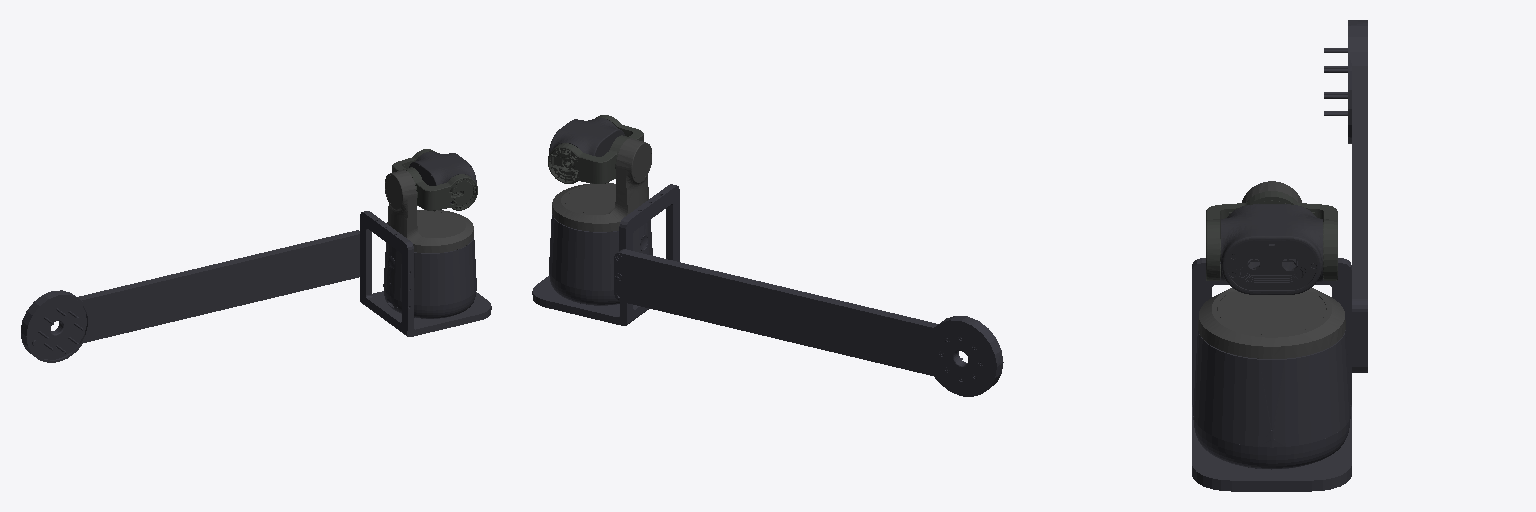
The robot description file, URDF, robot "eMeetArm_models":
<!-- This URDF was automatically created by SolidWorks to URDF Exporter! Originally created by Stephen Brawner (brawner@gmail.com) 
     Commit Version: 1.6.0-4-g7f85cfe  Build Version: 1.6.7995.38578
     For more information, please see http://wiki.ros.org/sw_urdf_exporter -->
<robot
  name="eMeetArm_models">
  <link name="world"/>
  <joint name="world_joint" type="fixed">
    <parent link="world"/>
    <child link="base_link"/>
    <origin xyz="0 0 0" rpy="0 0 0"/>
  </joint>

  <link
    name="base_link">
    <inertial>
      <origin
        xyz="-1.26513871156475E-05 -1.5742724565615E-05 0.0452777610383739"
        rpy="0 0 0" />
      <mass
        value="2.9887249749171" />
      <inertia
        ixx="0.0136862770640689"
        ixy="6.69045000229793E-07"
        ixz="-3.08621535501323E-07"
        iyy="0.0112779246258948"
        iyz="-2.26930660317598E-07"
        izz="0.0223184454586288" />
    </inertial>
    <visual>
      <origin
        xyz="0 0 0"
        rpy="0 0 0" />
      <geometry>
        <mesh
          filename="package://robot_arm_description/meshes/base_link.STL" />
      </geometry>
      <material
        name="">
        <color
          rgba="0.22 0.22 0.23 1" />
      </material>
    </visual>
    <collision>
      <origin
        xyz="0 0 0"
        rpy="0 0 0" />
      <geometry>
        <mesh
          filename="package://robot_arm_description/meshes/base_link.STL" />
      </geometry>
    </collision>
  </link>
  <link
    name="Link1">
    <inertial>
      <origin
        xyz="-7.4393277062379E-05 -0.00743203317797858 0.128765008589431"
        rpy="0 0 0" />
      <mass
        value="2.35824980558236" />
      <inertia
        ixx="0.00383791573125331"
        ixy="7.01396501492847E-07"
        ixz="-3.09202743571665E-06"
        iyy="0.00465819508220185"
        iyz="-0.000530039602599771"
        izz="0.00221408091488039" />
    </inertial>
    <visual>
      <origin
        xyz="0 0 0"
        rpy="0 0 0" />
      <geometry>
        <mesh
          filename="package://robot_arm_description/meshes/Link1.STL" />
      </geometry>
      <material
        name="">
        <color
          rgba="0.25 0.25 0.25 1" />
      </material>
    </visual>
    <collision>
      <origin
        xyz="0 0 0"
        rpy="0 0 0" />
      <geometry>
        <mesh
          filename="package://robot_arm_description/meshes/Link1.STL" />
      </geometry>
    </collision>
  </link>
  <joint
    name="Joint1"
    type="revolute">
    <origin
      xyz="0 0 0.1078"
      rpy="0 0 0" />
    <parent
      link="base_link" />
    <child
      link="Link1" />
    <axis
      xyz="0 0 1" />
    <limit
      lower="-2.618"
      upper="2.618"
      effort="5"
      velocity="3.14" />
    <dynamics damping="1.0" friction="0.0"/>
  </joint>
  <link
    name="Link2">
    <inertial>
      <origin
        xyz="0.262334166073163 -2.30075418332643E-05 0.0292792731278192"
        rpy="0 0 0" />
      <mass
        value="1.23593589919935" />
      <inertia
        ixx="0.000521066265507803"
        ixy="1.66498206532369E-07"
        ixz="1.28943373675324E-05"
        iyy="0.00836492400345204"
        iyz="-2.82843566382884E-07"
        izz="0.00851304966664655" />
    </inertial>
    <visual>
      <origin
        xyz="0 0 0"
        rpy="0 0 0" />
      <geometry>
        <mesh
          filename="package://robot_arm_description/meshes/Link2.STL" />
      </geometry>
      <material
        name="">
        <color
          rgba="0.28 0.27 0.27 1" />
      </material>
    </visual>
    <collision>
      <origin
        xyz="0 0 0"
        rpy="0 0 0" />
      <geometry>
        <mesh
          filename="package://robot_arm_description/meshes/Link2.STL" />
      </geometry>
    </collision>
  </link>
  <joint
    name="Joint2"
    type="revolute">
    <origin
      xyz="0 -0.0625 0.1502"
      rpy="1.5708 -0.48869 -3.1416" />
    <!-- 2026-07-28 实机重标定：新零点 = 旧 +0.181 rad（pitch -0.30769→-0.48869，限位 -0.181） -->
    <parent
      link="Link1" />
    <child
      link="Link2" />
    <axis
      xyz="0 0 1" />
    <limit
      lower="-0.981"
      upper="2.959"
      effort="30"
      velocity="3.14" />
    <dynamics damping="5.0" friction="0.0"/>
  </joint>
  <link
    name="Link3">
    <inertial>
      <origin
        xyz="0.250990565530514 0.00808545394179894 -0.0222401755365892"
        rpy="0 0 0" />
      <mass
        value="0.752556593812719" />
      <inertia
        ixx="0.000425309657305075"
        ixy="-5.61728607430966E-05"
        ixz="-1.50015547434599E-06"
        iyy="0.00322998845965891"
        iyz="-5.25098997553526E-07"
        izz="0.00319703542103549" />
    </inertial>
    <visual>
      <origin
        xyz="0 0 0"
        rpy="0 0 0" />
      <geometry>
        <mesh
          filename="package://robot_arm_description/meshes/Link3.STL" />
      </geometry>
      <material
        name="">
        <color
          rgba="0.26 0.26 0.29 1" />
      </material>
    </visual>
    <collision>
      <origin
        xyz="0 0 0"
        rpy="0 0 0" />
      <geometry>
        <mesh
          filename="package://robot_arm_description/meshes/Link3.STL" />
      </geometry>
    </collision>
  </link>
  <joint
    name="Joint3"
    type="revolute">
    <origin
      xyz="0.35 0 0.089"
      rpy="0 0 2.6579" />
    <!-- 2026-07-28 实机重标定：新零点 = 旧 -0.176 rad（yaw 2.8339→2.6579）；
         限位按新零点收紧为 [-2.5, 0]（物理行程 [-2.964, 0.226] 内的人为限制） -->
    <parent
      link="Link2" />
    <child
      link="Link3" />
    <axis
      xyz="0 0 1" />
    <limit
      lower="-2.5"
      upper="0.02"
      effort="5"
      velocity="3.14" />
    <dynamics damping="3.0" friction="0.0"/>
  </joint>
  <link
    name="Link4">
    <inertial>
      <origin
        xyz="-0.0101264888829805 -9.43656253071801E-06 0.0183147239415546"
        rpy="0 0 0" />
      <mass
        value="0.096843847451149" />
      <inertia
        ixx="3.90651033692534E-05"
        ixy="-7.03126515657744E-09"
        ixz="1.31677639794987E-05"
        iyy="4.72677970007942E-05"
        iyz="-4.24198916633624E-09"
        izz="5.03679132119555E-05" />
    </inertial>
    <visual>
      <origin
        xyz="0 0 0"
        rpy="0 0 0" />
      <geometry>
        <mesh
          filename="package://robot_arm_description/meshes/Link4.STL" />
      </geometry>
      <material
        name="">
        <color
          rgba="0.30 0.30 0.30 1" />
      </material>
    </visual>
    <collision>
      <origin
        xyz="0 0 0"
        rpy="0 0 0" />
      <geometry>
        <mesh
          filename="package://robot_arm_description/meshes/Link4.STL" />
      </geometry>
    </collision>
  </link>
  <joint
    name="Joint4"
    type="revolute">
    <origin
      xyz="0.339 -0.024975 -0.04"
      rpy="1.5708 0 0" />
    <parent
      link="Link3" />
    <child
      link="Link4" />
    <axis
      xyz="0 0 -1" />
    <limit
      lower="-3.1"
      upper="3.1"
      effort="1"
      velocity="1" />
    <dynamics damping="0.5" friction="0.0"/>
  </joint>
  <link
    name="Link5">
    <inertial>
      <origin
        xyz="0.0012638 0.00010623 0.021049"
        rpy="0 0 0" />
      <mass
        value="0.045324" />
      <inertia
        ixx="9.6597E-06"
        ixy="4.2023E-08"
        ixz="1.6641E-06"
        iyy="1.3078E-05"
        iyz="-8.5768E-08"
        izz="8.9202E-06" />
    </inertial>
    <visual>
      <origin
        xyz="0 0 0"
        rpy="0 0 0" />
      <geometry>
        <mesh
          filename="package://robot_arm_description/meshes/Link5.STL" />
      </geometry>
      <material
        name="">
        <color
          rgba="0.27 0.28 0.27 1" />
      </material>
    </visual>
    <collision>
      <origin
        xyz="0 0 0"
        rpy="0 0 0" />
      <geometry>
        <mesh
          filename="package://robot_arm_description/meshes/Link5.STL" />
      </geometry>
    </collision>
  </link>
  <joint
    name="Joint5"
    type="revolute">
    <origin
      xyz="-0.022739 0 0.048353"
      rpy="-1.5708 0 -1.5708" />
    <parent
      link="Link4" />
    <child
      link="Link5" />
    <axis
      xyz="0 0 1" />
    <limit
      lower="-0.7854"
      upper="0.7854"
      effort="1"
      velocity="1" />
    <dynamics damping="0.5" friction="0.0"/>
  </joint>
  <link
    name="Link6">
    <inertial>
      <origin
        xyz="-0.000391828204109268 -5.10898276429028E-05 8.72654266097506E-05"
        rpy="0 0 0" />
      <mass
        value="0.0550538676063611" />
      <inertia
        ixx="1.97473690747458E-05"
        ixy="2.97287907271867E-08"
        ixz="-3.3993136804071E-08"
        iyy="1.6757375365036E-05"
        iyz="-1.34242857049597E-07"
        izz="1.07644206564509E-05" />
    </inertial>
    <visual>
      <origin
        xyz="0 0 0"
        rpy="0 0 0" />
      <geometry>
        <mesh
          filename="package://robot_arm_description/meshes/Link6.STL" />
      </geometry>
      <material
        name="">
        <color
          rgba="0.24 0.24 0.26 1" />
      </material>
    </visual>
    <collision>
      <origin
        xyz="0 0 0"
        rpy="0 0 0" />
      <geometry>
        <mesh
          filename="package://robot_arm_description/meshes/Link6.STL" />
      </geometry>
    </collision>
  </link>
  <joint
    name="Joint6"
    type="revolute">
    <origin
      xyz="0 0 0.03484"
      rpy="3.1416 -1.5708 0" />
    <parent
      link="Link5" />
    <child
      link="Link6" />
    <axis
      xyz="0 0 -1" />
    <limit
      lower="-1.5"
      upper="0.5"
      effort="1"
      velocity="1" />
    <dynamics damping="0.5" friction="0.0"/>
  </joint>

  <link name="tool0"/>
  <joint name="tool0_joint" type="fixed">
    <parent link="Link6"/>
    <child link="tool0"/>
    <origin xyz="0 0 0" rpy="0 0 0"/>
  </joint>

  <link name="camera_optical_frame"/>
  <joint name="camera_optical_joint" type="fixed">
    <parent link="tool0"/>
    <child link="camera_optical_frame"/>
    <origin xyz="0 0 0" rpy="0 -1.5708 3.1416"/>
  </joint>

  <!-- Arm joints 1-3: Gazebo simulation / future CANopen hardware plugin -->
  <ros2_control name="eMeetArm_hardware" type="system">
    <hardware>
      <plugin>gazebo_ros2_control/GazeboSystem</plugin>
    </hardware>
    <joint name="Joint1">
      <command_interface name="position">
        <param name="min">-2.618</param>
        <param name="max">2.618</param>
      </command_interface>
      <command_interface name="velocity"/>
      <state_interface name="position">
        <param name="initial_value">0.0</param>
      </state_interface>
      <state_interface name="velocity"/>
    </joint>
    <joint name="Joint2">
      <command_interface name="position">
        <param name="min">-0.981</param>
        <param name="max">2.959</param>
      </command_interface>
      <command_interface name="velocity"/>
      <state_interface name="position">
        <param name="initial_value">0.0</param>
      </state_interface>
      <state_interface name="velocity"/>
    </joint>
    <joint name="Joint3">
      <command_interface name="position">
        <param name="min">-2.5</param>
        <param name="max">0.02</param>
      </command_interface>
      <command_interface name="velocity"/>
      <state_interface name="position">
        <param name="initial_value">0.0</param>
      </state_interface>
      <state_interface name="velocity"/>
    </joint>
  </ros2_control>

  <!-- Joint4-6（云台）的 ros2_control 声明不在本文件里。
       2026-07-28 云台换代 V2（C-200T 三轴）后，原 V1 的 eMeetCamera_hardware 块
       （robot_gimbal_driver/CameraHardwareInterface，USB HID 二轴）已随 V1 包一并删除。
       现在 J4-6 的 ros2_control 由 robot_gimbal_description_v2 的 gimbal.urdf.xacro 提供
       （robot_gimbal_driver_v2/GimbalForwardingInterface），经 arm.urdf.xacro include。
       本文件是 SolidWorks 原始导出，仅作运动学参考/备用（MATLAB 可达域分析读它），
       不参与仿真/实机启动，故不再维护云台侧的 ros2_control 声明。 -->

  <gazebo reference="base_link">
    <visual>
      <material>
        <ambient>0.55 0.57 0.60 1</ambient>
        <diffuse>0.75 0.77 0.80 1</diffuse>
        <specular>0.95 0.95 0.95 80</specular>
        <emissive>0 0 0 1</emissive>
      </material>
    </visual>
  </gazebo>
  <gazebo reference="Link1">
    <visual>
      <material>
        <ambient>0.55 0.57 0.60 1</ambient>
        <diffuse>0.75 0.77 0.80 1</diffuse>
        <specular>0.95 0.95 0.95 80</specular>
        <emissive>0 0 0 1</emissive>
      </material>
    </visual>
  </gazebo>
  <gazebo reference="Link2">
    <visual>
      <material>
        <ambient>0.55 0.57 0.60 1</ambient>
        <diffuse>0.75 0.77 0.80 1</diffuse>
        <specular>0.95 0.95 0.95 80</specular>
        <emissive>0 0 0 1</emissive>
      </material>
    </visual>
  </gazebo>
  <gazebo reference="Link3">
    <visual>
      <material>
        <ambient>0.55 0.57 0.60 1</ambient>
        <diffuse>0.75 0.77 0.80 1</diffuse>
        <specular>0.95 0.95 0.95 80</specular>
        <emissive>0 0 0 1</emissive>
      </material>
    </visual>
  </gazebo>
  <gazebo reference="Link4">
    <visual>
      <material>
        <ambient>0.55 0.57 0.60 1</ambient>
        <diffuse>0.75 0.77 0.80 1</diffuse>
        <specular>0.95 0.95 0.95 80</specular>
        <emissive>0 0 0 1</emissive>
      </material>
    </visual>
  </gazebo>
  <gazebo reference="Link5">
    <visual>
      <material>
        <ambient>0.55 0.57 0.60 1</ambient>
        <diffuse>0.75 0.77 0.80 1</diffuse>
        <specular>0.95 0.95 0.95 80</specular>
        <emissive>0 0 0 1</emissive>
      </material>
    </visual>
  </gazebo>
  <gazebo reference="Link6">
    <visual>
      <material>
        <ambient>0.55 0.57 0.60 1</ambient>
        <diffuse>0.75 0.77 0.80 1</diffuse>
        <specular>0.95 0.95 0.95 80</specular>
        <emissive>0 0 0 1</emissive>
      </material>
    </visual>
    <sensor name="camera_sensor" type="camera">
      <pose>0 0 0 -1.5708 0 0</pose>
      <camera name="head">
        <horizontal_fov>1.518</horizontal_fov>
        <image>
          <width>640</width>
          <height>480</height>
          <format>R8G8B8</format>
        </image>
        <clip>
          <near>0.05</near>
          <far>10.0</far>
        </clip>
      </camera>
      <plugin name="camera_controller" filename="libgazebo_ros_camera.so">
        <frame_name>camera_optical_frame</frame_name>
        <ros>
          <namespace>/camera</namespace>
        </ros>
      </plugin>
      <always_on>1</always_on>
      <update_rate>30</update_rate>
      <visualize>true</visualize>
    </sensor>
  </gazebo>

  <gazebo>
    <plugin name="gazebo_ros2_control" filename="libgazebo_ros2_control.so">
      <parameters>CONTROLLERS_YAML_PATH</parameters>
    </plugin>
  </gazebo>

</robot>

--- Facts derived from the render (not from the file) ---
Views: 3 orthographic renders of the robot side by side, from view 1: azimuth 30°, elevation 25°; view 2: azimuth 150°, elevation 25°; view 3: azimuth 270°, elevation 25°.
Model eMeetArm_models with 10 links and 9 joints (6 revolute, 3 fixed), rooted at world, posed all joints at 0.
Visible links, largest first — view 1: Link3, Link4, Link5, Link6; view 2: Link3, Link4, Link5, Link6; view 3: Link3, Link4, Link6, Link5.
Link boxes in pixels (x1=…): Link3: x1=21, y1=211, x2=491, y2=362; Link4: x1=385, y1=170, x2=473, y2=252; Link5: x1=392, y1=149, x2=477, y2=210; Link6: x1=409, y1=152, x2=476, y2=203; Link3: x1=532, y1=184, x2=1003, y2=396; Link4: x1=552, y1=138, x2=651, y2=231; Link5: x1=548, y1=115, x2=643, y2=183; Link6: x1=549, y1=118, x2=624, y2=156; Link3: x1=1192, y1=20, x2=1367, y2=491; Link4: x1=1198, y1=181, x2=1345, y2=358; Link6: x1=1221, y1=204, x2=1322, y2=294; Link5: x1=1206, y1=191, x2=1337, y2=280.
Size in the robot's own frame: 0.4148 by 0.088 by 0.1343 metres.
4 mesh visuals loaded from 7 distinct referenced files (4 binary STL); not drawn: 3 (reference not matched to a file when rendering).
